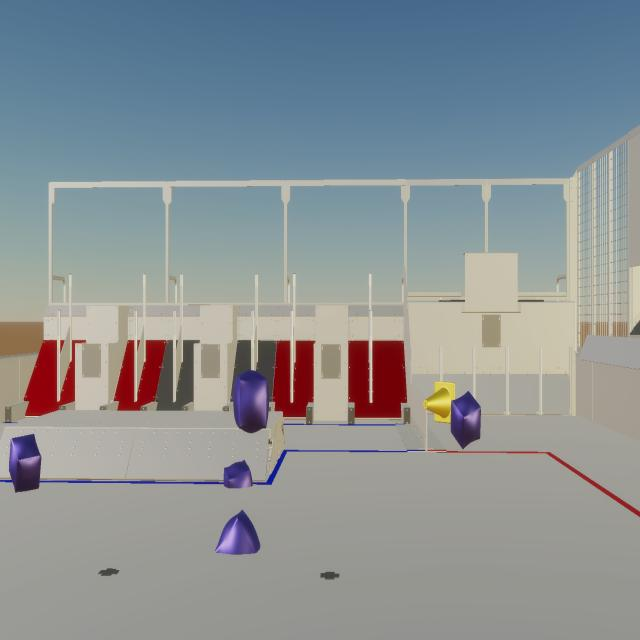frc_cone: (423, 381, 455, 424)
frc_cube: (233, 370, 269, 433), (215, 510, 260, 554), (9, 434, 41, 492), (451, 391, 481, 449), (224, 460, 253, 488)
